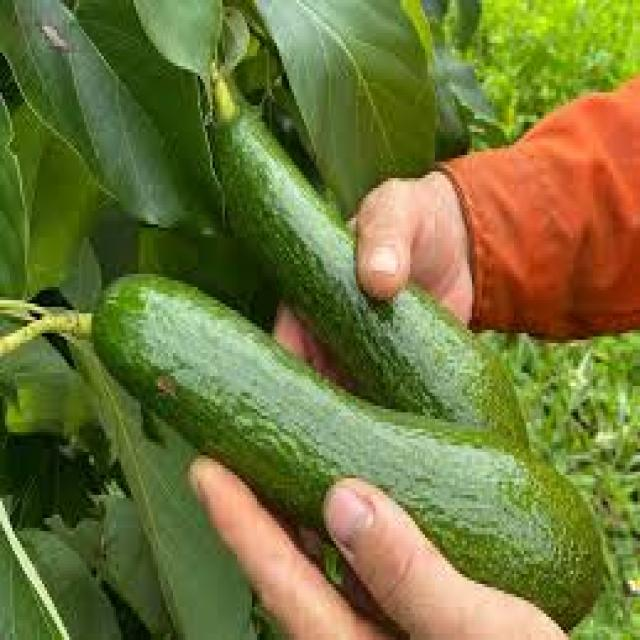Bo: (30, 269, 613, 637), (206, 53, 539, 453)
